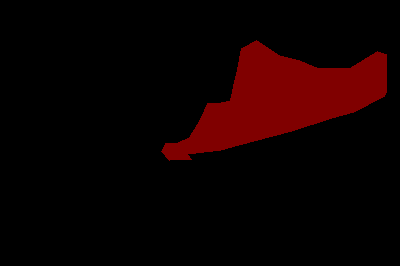fire: (161, 40, 386, 160)
